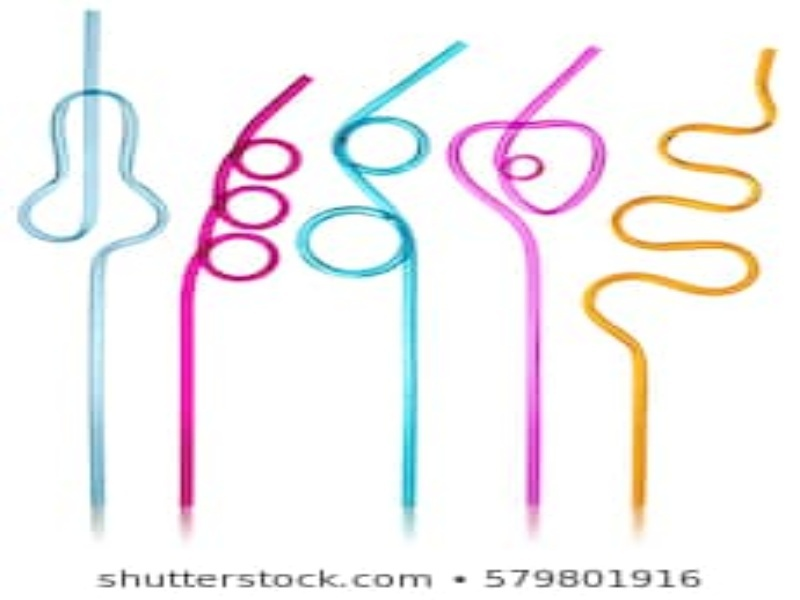straw: (587, 31, 788, 525), (436, 38, 622, 510), (19, 3, 173, 550), (295, 36, 469, 513), (159, 59, 319, 510)
